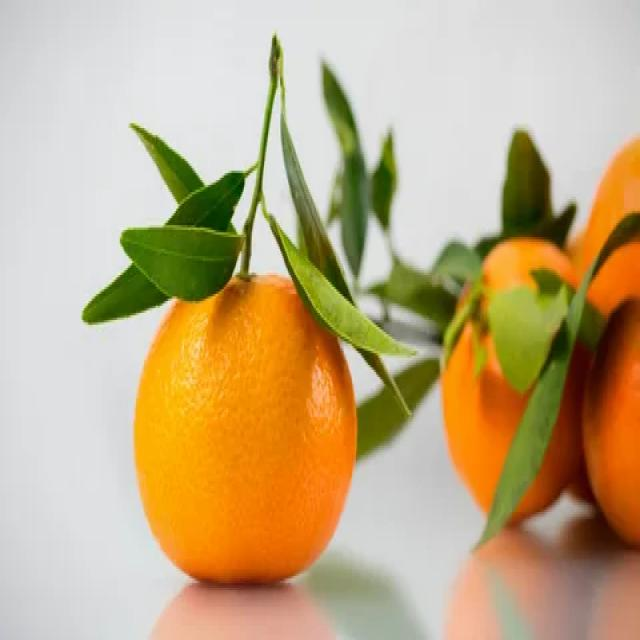orange: (127, 259, 361, 595)
